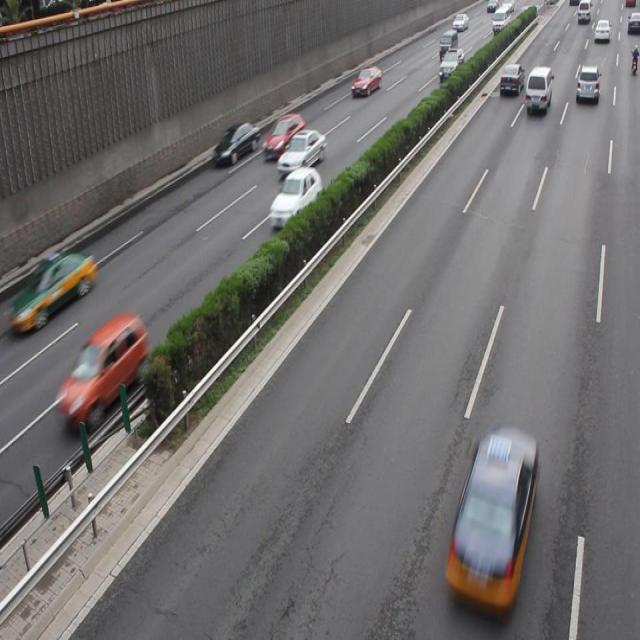car: (447, 421, 537, 610), (58, 311, 148, 433), (11, 248, 96, 332), (270, 165, 321, 228), (262, 110, 306, 162), (212, 119, 259, 165), (276, 127, 324, 172)
